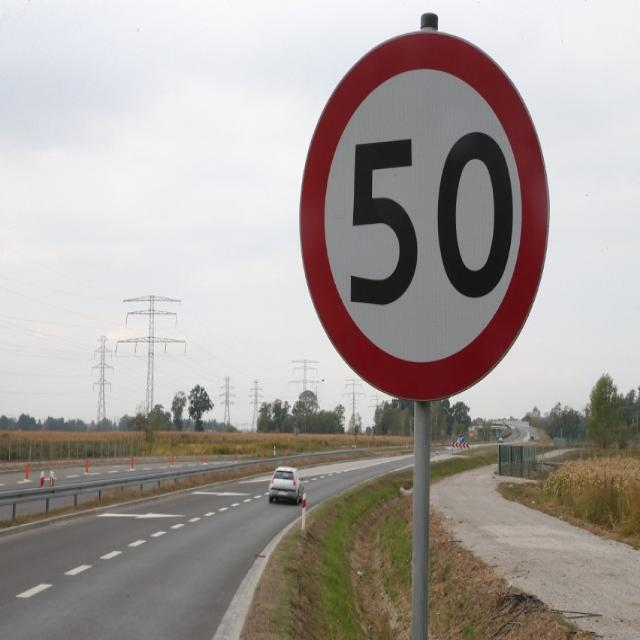speed limit 50: (298, 30, 549, 404)
